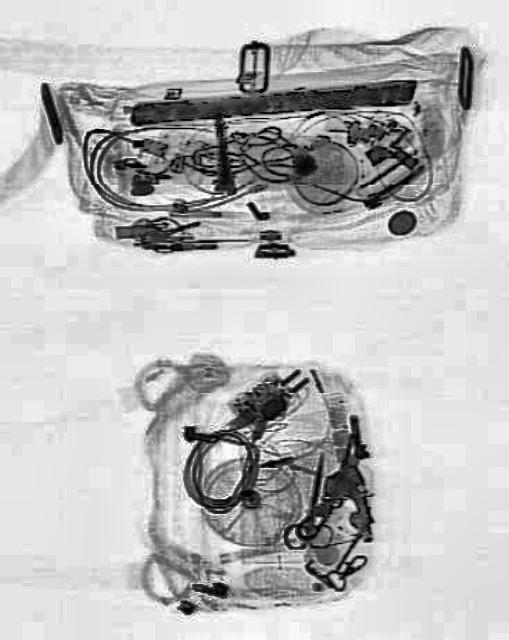Scissors: (281, 450, 341, 552)
